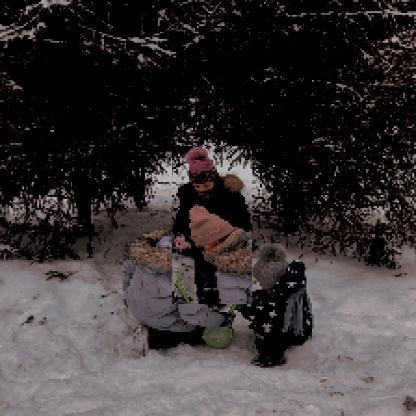child: (173, 147, 254, 306), (233, 244, 317, 370)
